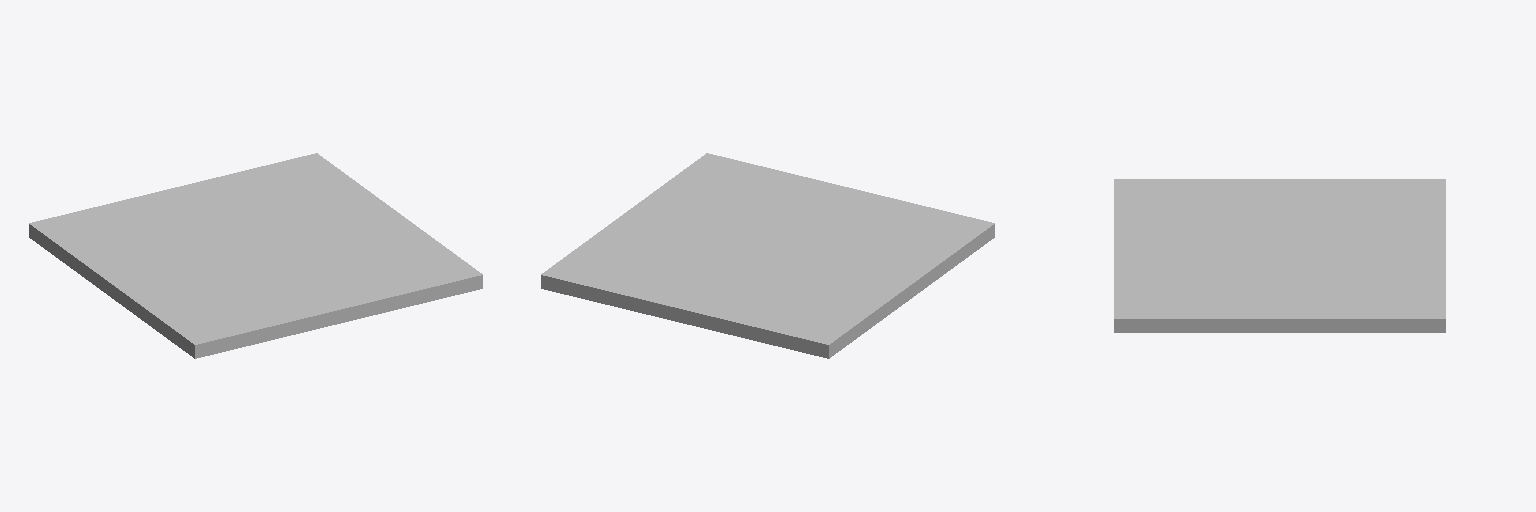
The model's file is checkerboard.obj.
3 views of the same model, side by side, from view 1: azimuth 30°, elevation 25°; view 2: azimuth 150°, elevation 25°; view 3: azimuth 270°, elevation 25° (orthographic).
Parts seen in each view (by area): view 1: Cube; view 2: Cube; view 3: Cube.
Part boxes in pixels (left/top/right/bottom): Cube: left=29, top=153, right=482, bottom=358; Cube: left=541, top=153, right=994, bottom=358; Cube: left=1114, top=179, right=1445, bottom=332.
Size of the model in its own units: 9.08 by 0.4173 by 9.08.